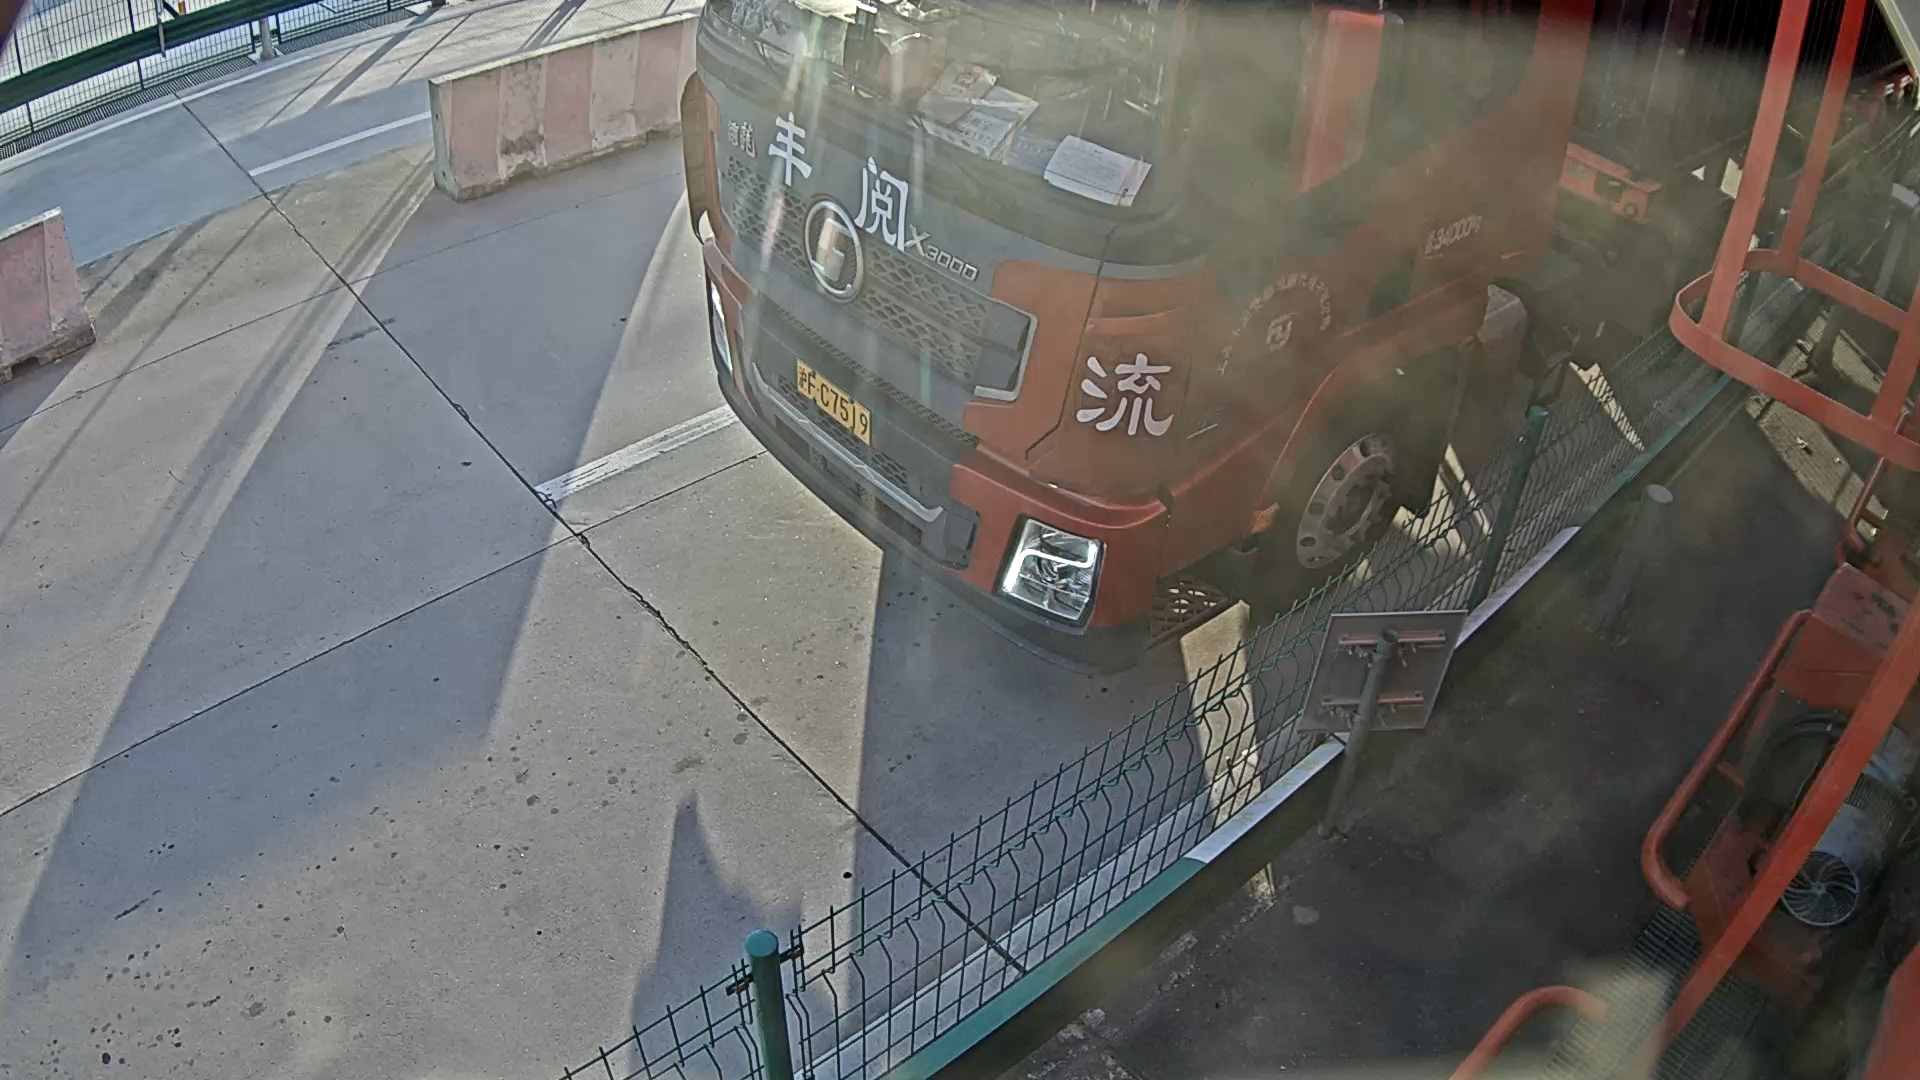head: (695, 6, 1433, 659)
plate: (783, 354, 887, 452)
